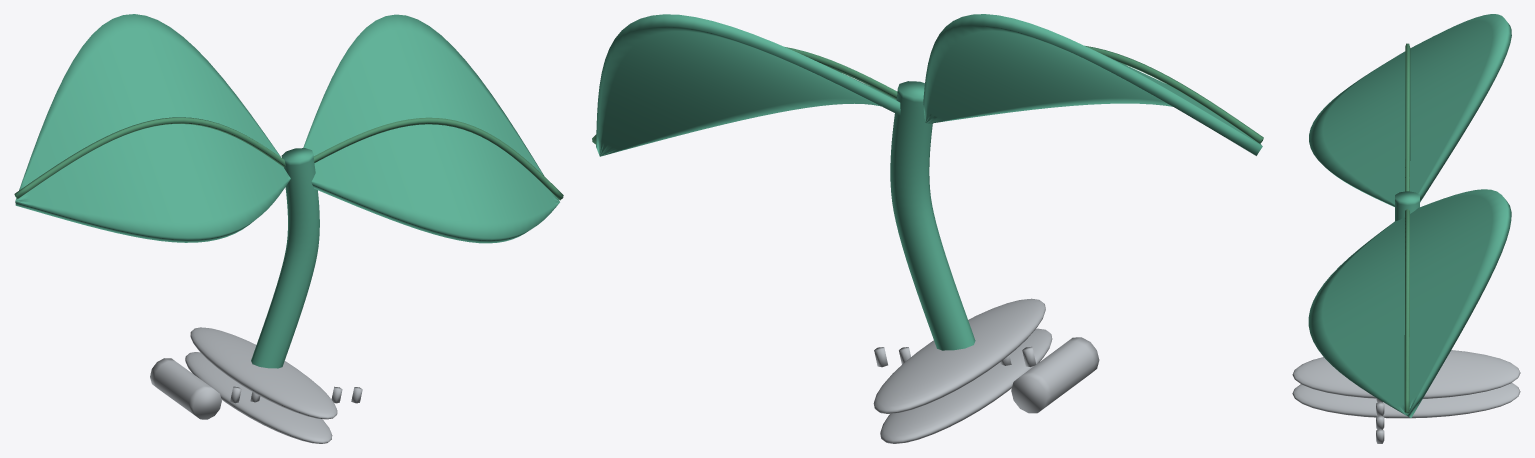
The model's file is Feminine-ponytail-pashmina250-sprout.glb.
The picture shows the model from 3 angles, left to right: view 1: azimuth 30°, elevation 25°; view 2: azimuth 150°, elevation 25°; view 3: azimuth 270°, elevation 25°; orthographic projection. The views are drawn at different scales.
Visible parts, largest first — view 1: 226 extra / Accessory / mint226, 226 extra / Sprout / clip silver235, 226 extra / Sprout / leaf vein235; view 2: 226 extra / Accessory / mint226, 226 extra / Sprout / clip silver235, 226 extra / Sprout / leaf vein235; view 3: 226 extra / Accessory / mint226, 226 extra / Sprout / clip silver235, 226 extra / Sprout / leaf vein235.
Part boxes in pixels (x1,y1,x2,y2): 226 extra / Accessory / mint226: [15, 14, 559, 368]; 226 extra / Sprout / clip silver235: [150, 327, 362, 443]; 226 extra / Sprout / leaf vein235: [14, 117, 563, 200]; 226 extra / Accessory / mint226: [596, 14, 1262, 350]; 226 extra / Sprout / clip silver235: [873, 298, 1099, 443]; 226 extra / Sprout / leaf vein235: [592, 46, 1263, 144]; 226 extra / Accessory / mint226: [1308, 14, 1511, 417]; 226 extra / Sprout / clip silver235: [1292, 350, 1520, 443]; 226 extra / Sprout / leaf vein235: [1404, 43, 1410, 413].
Size of the model in its own units: 0.2645 by 0.1738 by 0.104.
